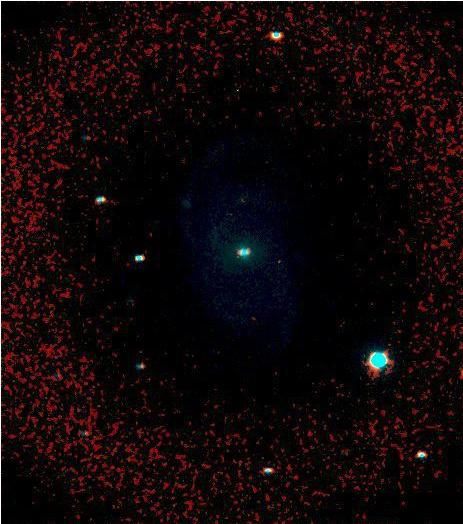star: (262, 246, 292, 276)
